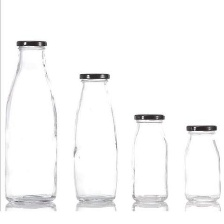bottle: (2, 37, 59, 209), (70, 70, 118, 204), (130, 111, 169, 203), (181, 121, 223, 204)
